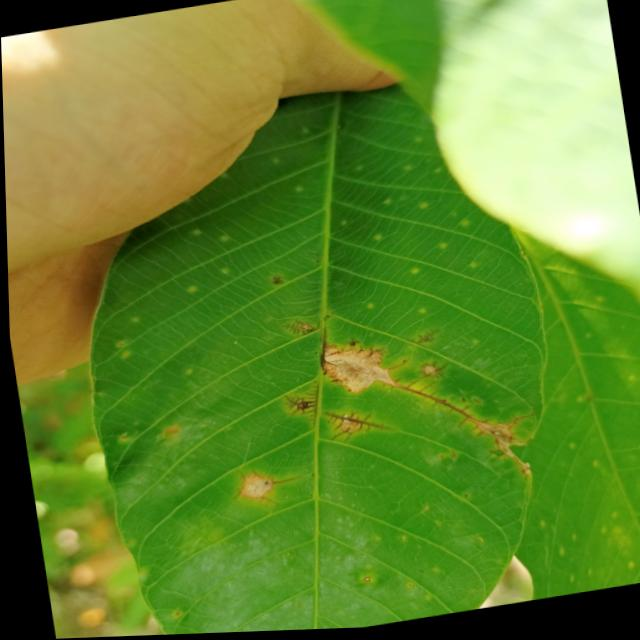Colletotrichum: (359, 578, 366, 585), (460, 496, 464, 500), (436, 457, 440, 460), (404, 587, 406, 589)
Corynespora: (386, 367, 492, 445), (319, 404, 389, 447), (280, 383, 322, 433), (313, 328, 334, 373), (279, 317, 318, 341), (403, 331, 439, 353), (362, 345, 385, 361)
Leaf-Blight: (318, 340, 391, 400), (471, 417, 529, 488), (234, 472, 272, 503)
